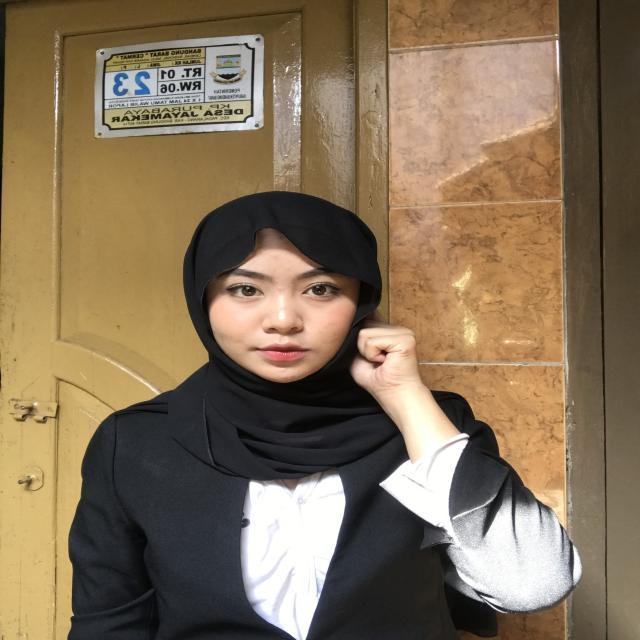ibu: (342, 304, 464, 444)
